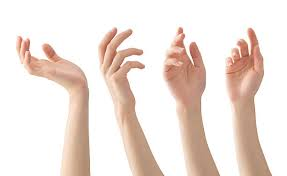hand: (9, 28, 91, 97), (157, 11, 211, 105), (94, 16, 143, 107), (221, 19, 271, 105)
